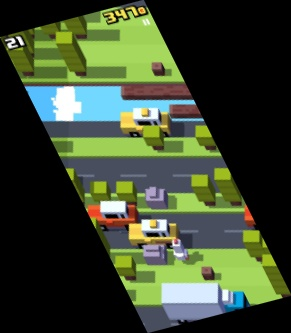car: (119, 108, 172, 137)
log: (121, 83, 196, 100), (170, 105, 211, 118)
rock: (144, 186, 167, 210), (143, 244, 167, 266)
stump: (201, 266, 215, 280), (152, 63, 164, 75)
tree: (56, 32, 86, 76), (80, 218, 110, 261), (263, 254, 291, 299), (213, 168, 242, 207), (5, 37, 34, 76), (4, 20, 33, 57), (62, 3, 89, 39), (62, 169, 85, 207), (37, 6, 62, 38), (244, 230, 267, 263), (192, 175, 215, 205), (114, 256, 137, 280), (89, 181, 111, 205), (195, 126, 216, 150), (116, 182, 137, 205)
truck: (162, 282, 252, 324)
water: (23, 85, 207, 121)
